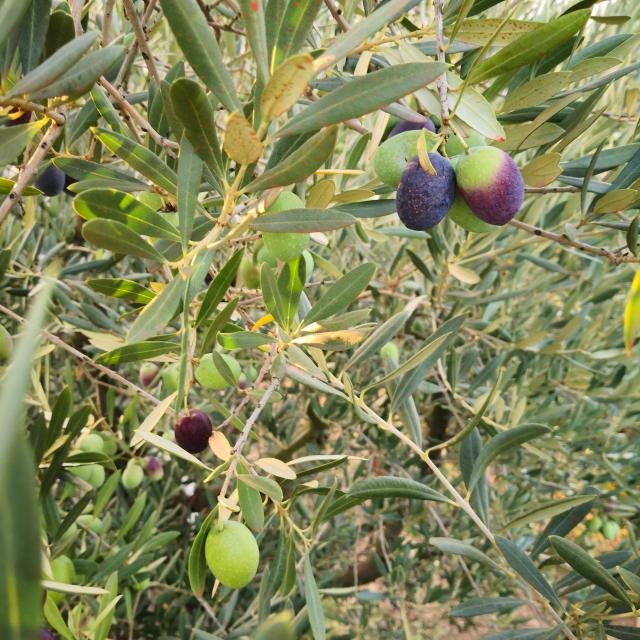Healthy: (74, 187, 182, 264), (467, 423, 551, 500), (549, 535, 634, 609), (91, 128, 177, 197), (455, 146, 525, 226), (494, 535, 563, 611), (396, 149, 457, 231), (192, 249, 244, 328), (205, 520, 259, 589), (260, 255, 305, 334), (347, 477, 455, 505), (94, 340, 181, 366), (195, 351, 245, 389), (86, 278, 156, 305), (173, 411, 212, 454), (33, 161, 77, 197), (122, 457, 164, 490), (217, 331, 280, 350)
Olive Fruit Fly: (373, 130, 421, 190)
